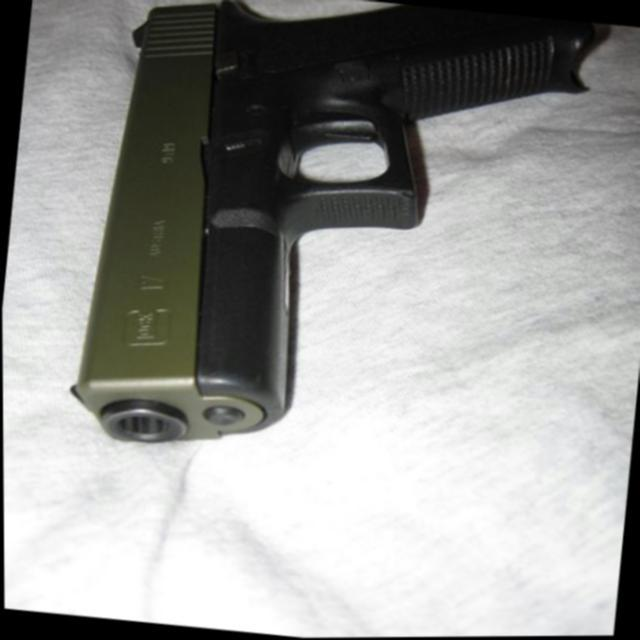weapon: (60, 0, 599, 486)
